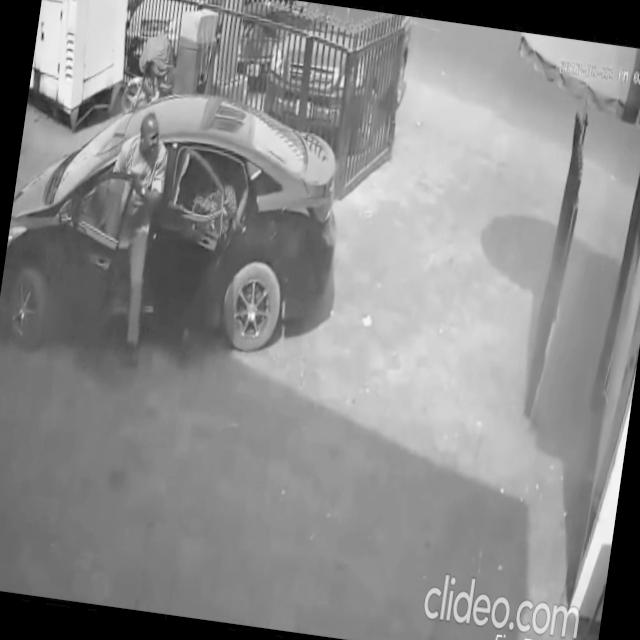gun: (208, 200, 252, 248)
person: (86, 103, 178, 370)
person with a gun: (165, 158, 258, 375)
